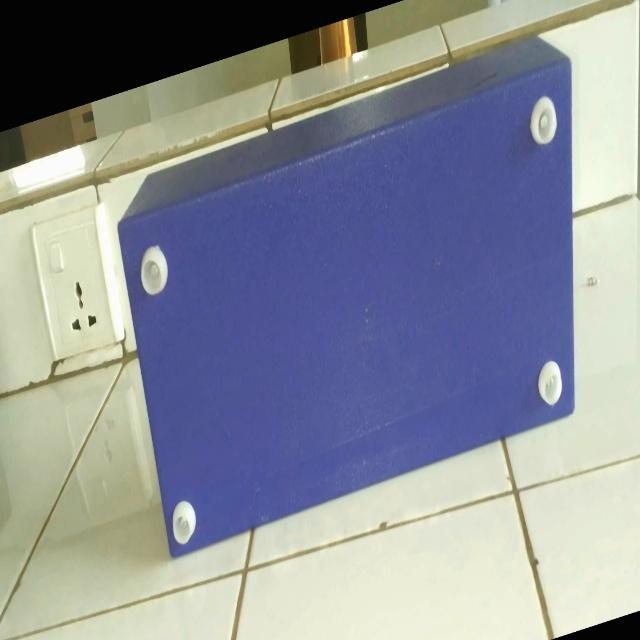Decade Capacitor Box: (104, 26, 604, 579)
